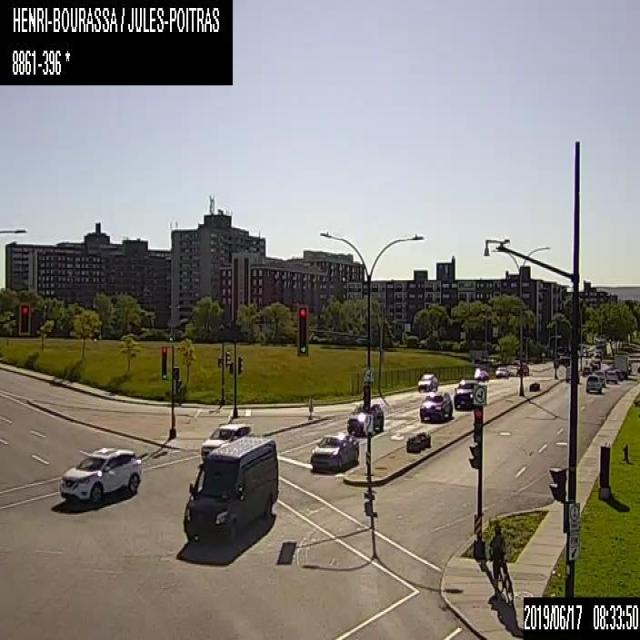cyclist: (486, 524, 514, 605)
vehicle: (183, 434, 278, 546), (57, 444, 141, 503), (308, 432, 360, 470), (200, 422, 249, 457), (347, 401, 383, 435), (420, 390, 450, 420), (453, 378, 480, 410), (417, 372, 437, 391), (613, 352, 628, 376), (585, 374, 601, 392), (592, 370, 605, 386), (494, 366, 509, 378), (474, 368, 488, 380), (605, 369, 616, 383), (516, 362, 528, 374), (613, 368, 623, 380), (581, 364, 591, 374), (593, 348, 602, 359), (367, 435, 368, 436)
